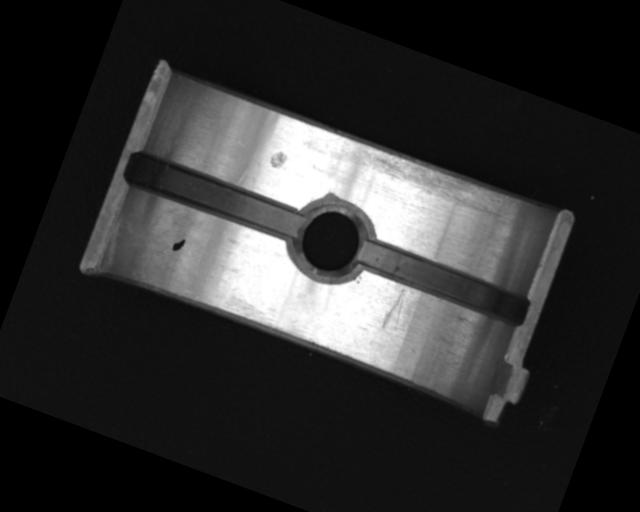blot: (170, 235, 187, 254)
bruise: (266, 148, 289, 172)
gap: (120, 146, 310, 247), (357, 235, 533, 329)
hole: (281, 188, 383, 294)
nick: (377, 280, 413, 336)
scratch: (348, 137, 517, 224)
